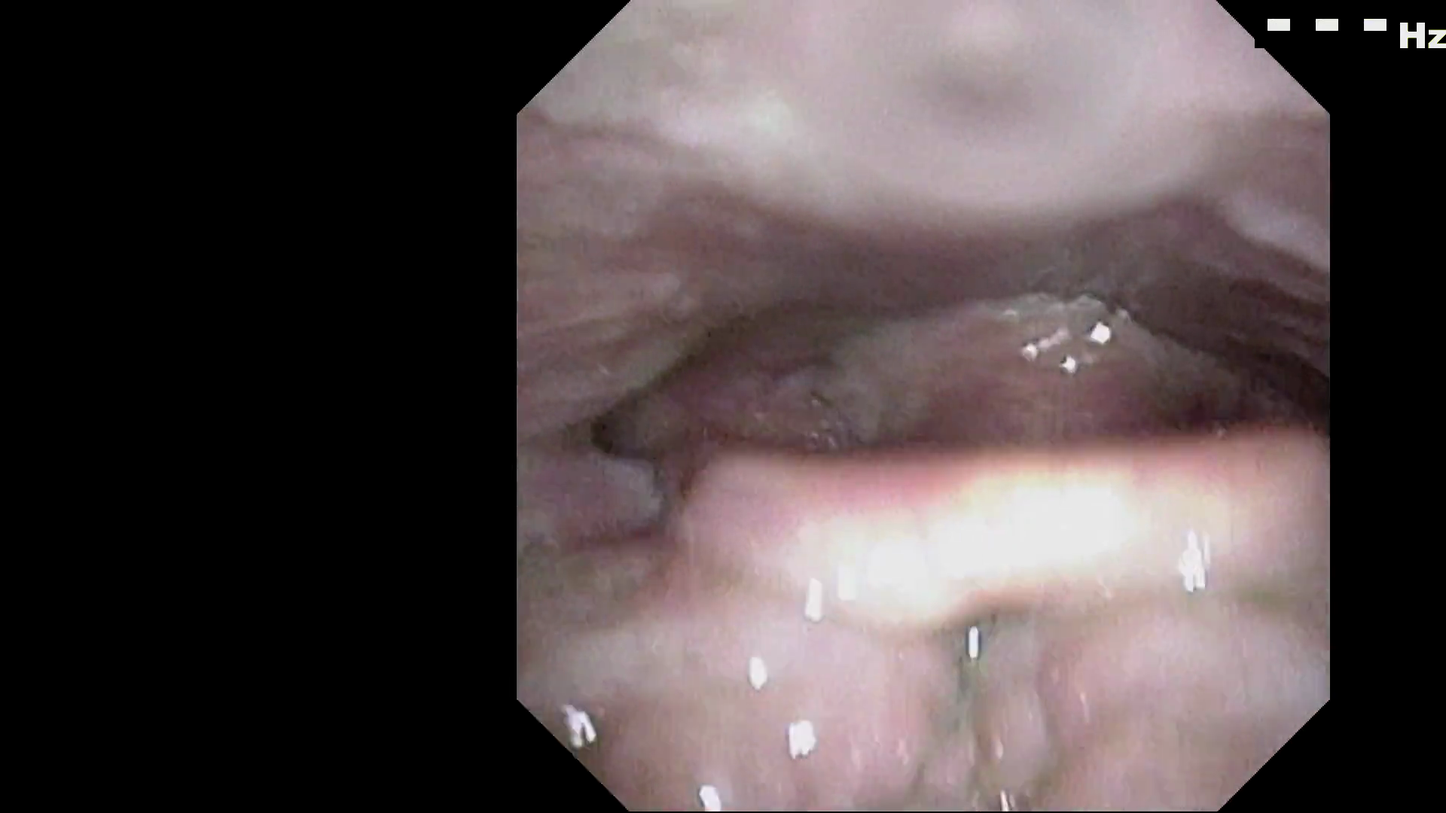epiglottis: (708, 411, 1257, 579)
